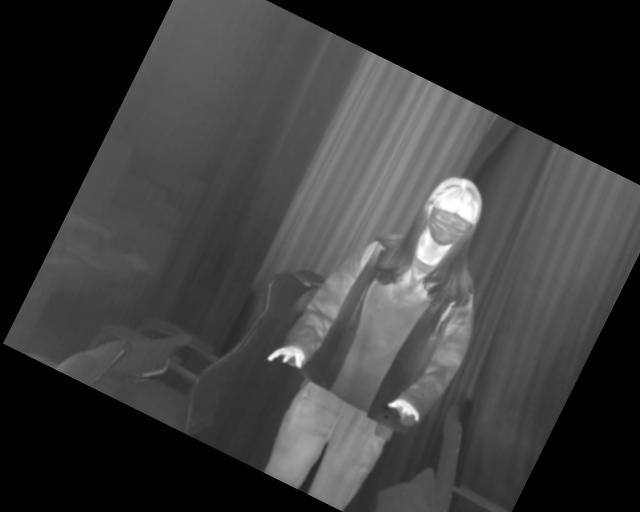face: (412, 167, 493, 256)
